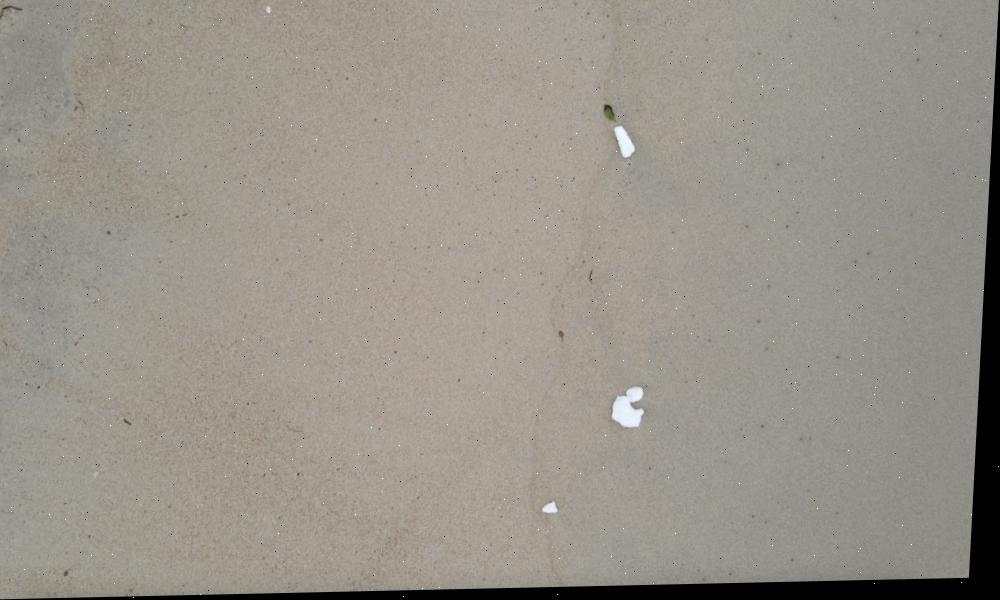styrofoam: (616, 399, 652, 432), (614, 127, 638, 162), (631, 387, 649, 406), (550, 505, 564, 516)
